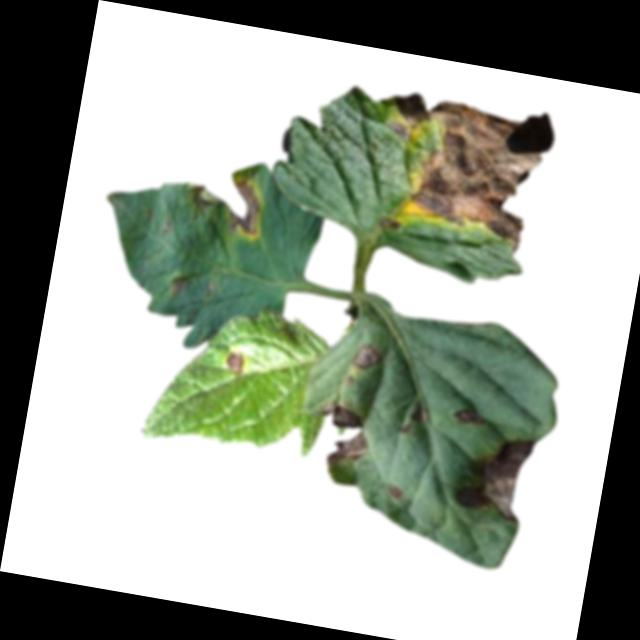Early_blight: (366, 86, 562, 256), (453, 424, 539, 525), (181, 161, 269, 240), (309, 395, 376, 468), (396, 403, 430, 438), (348, 338, 383, 371), (453, 400, 485, 428), (225, 349, 247, 375), (167, 272, 188, 294), (385, 480, 403, 499)
